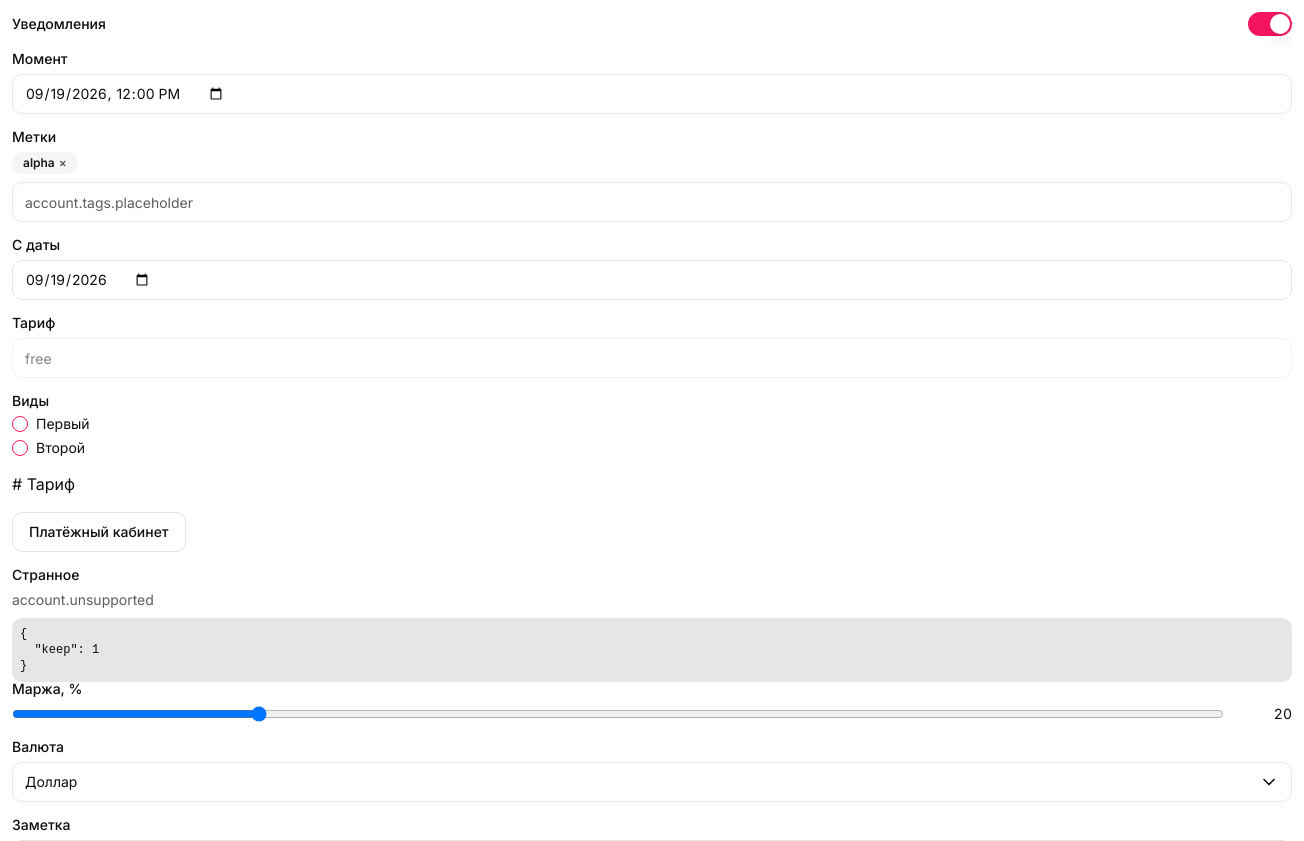
SchemaForm › adds a tag on Enter and removes it on the badge cross
expect the text "alpha" is shown: met, box [23, 155, 55, 170]
Type "beta" into the field labelled "Метки" at (652, 202), box [12, 182, 1292, 222]
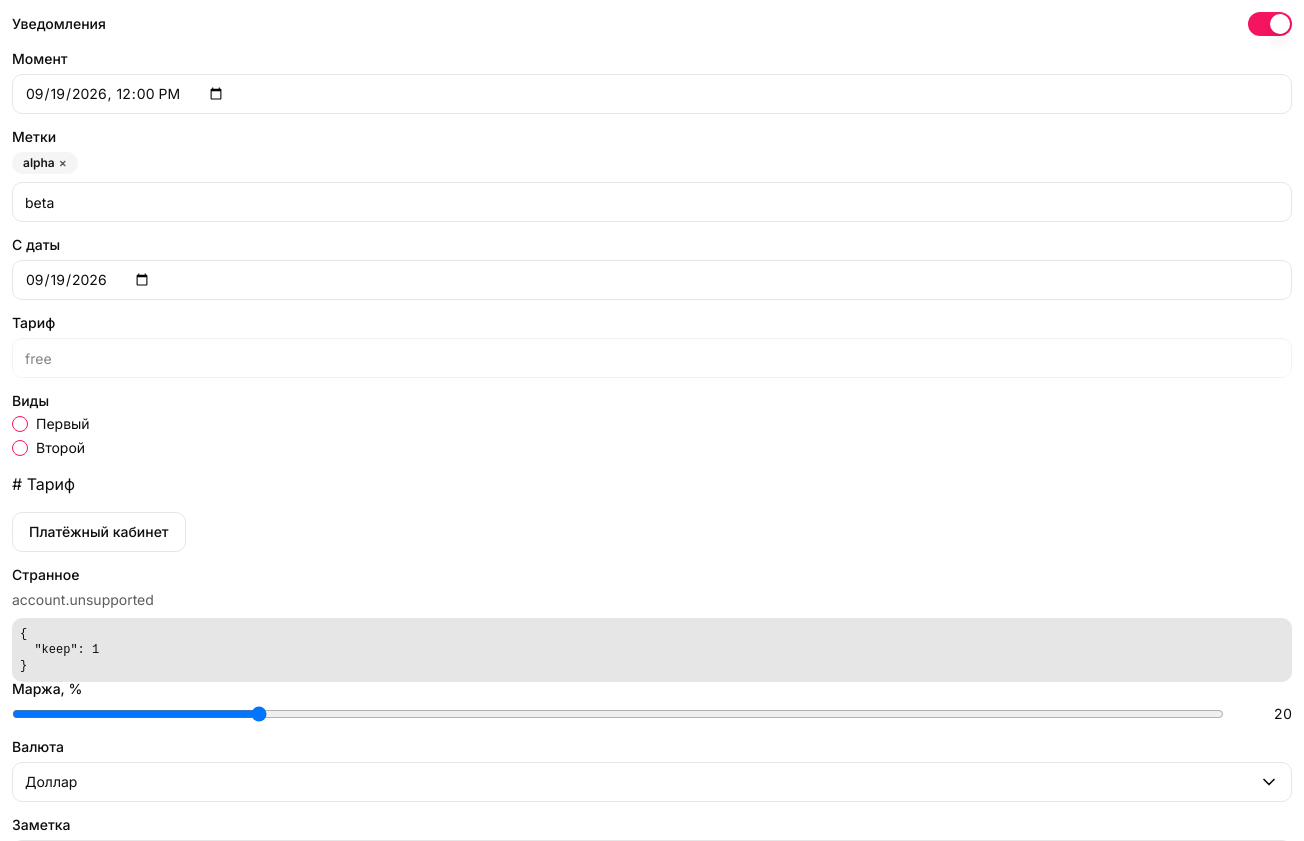
Press Enter in the field labelled "Метки", box [12, 182, 1292, 222]
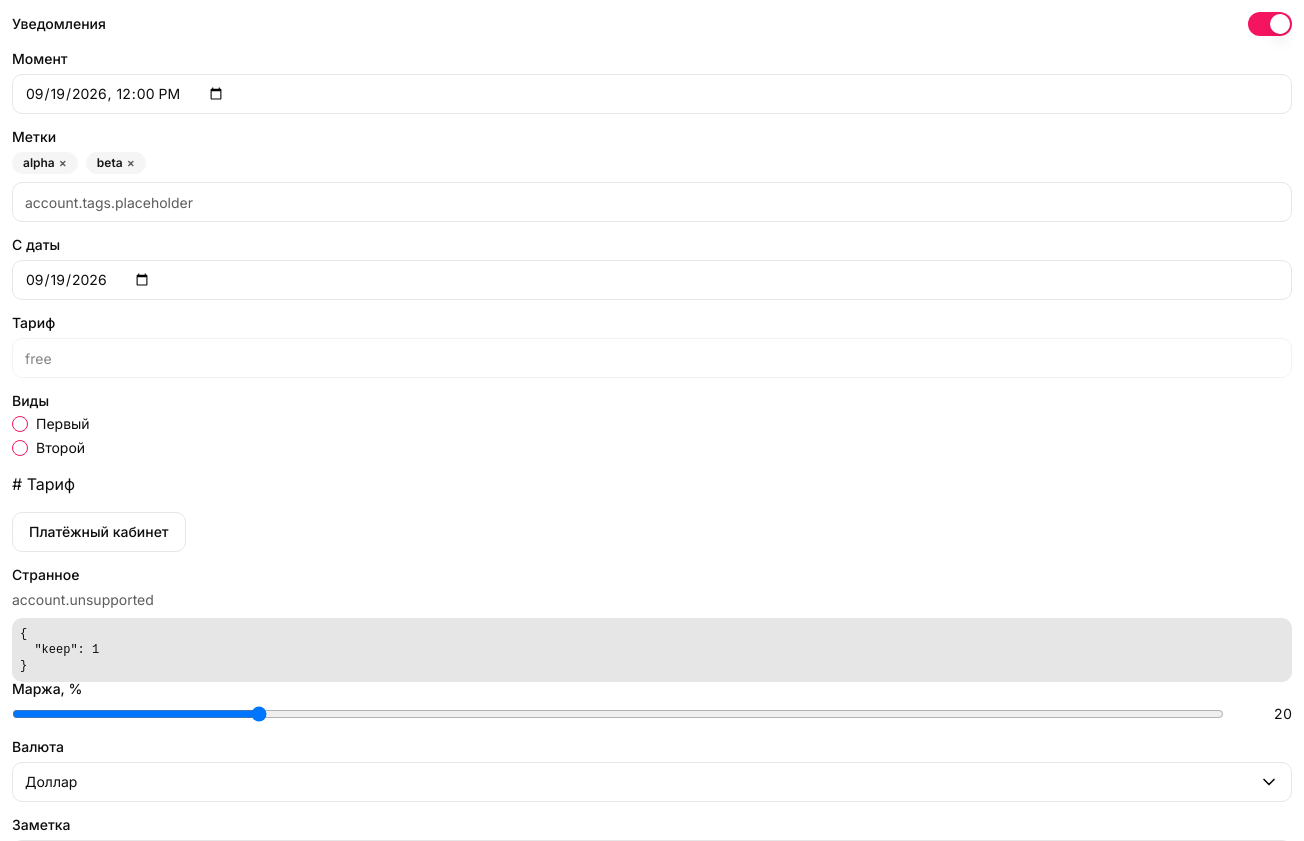
expect the text "beta" is shown: met, box [97, 155, 123, 170]
expect the field labelled "Метки" is empty: met, box [12, 182, 1292, 222]
Click the button "×" next to "alpha" at (63, 163), box [59, 155, 67, 171]
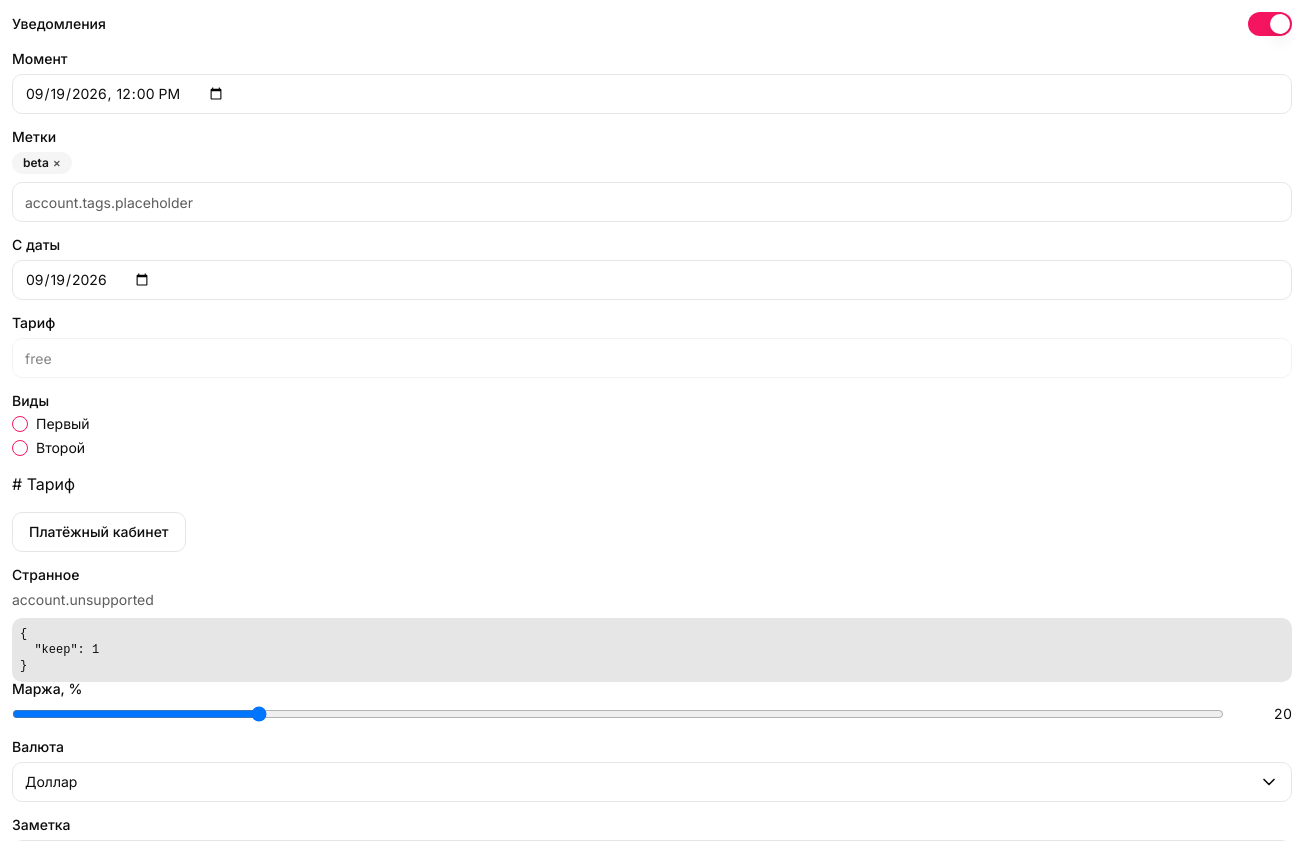
expect the text "beta" is shown: met, box [23, 155, 49, 170]
expect the text "alpha" is gone: met
